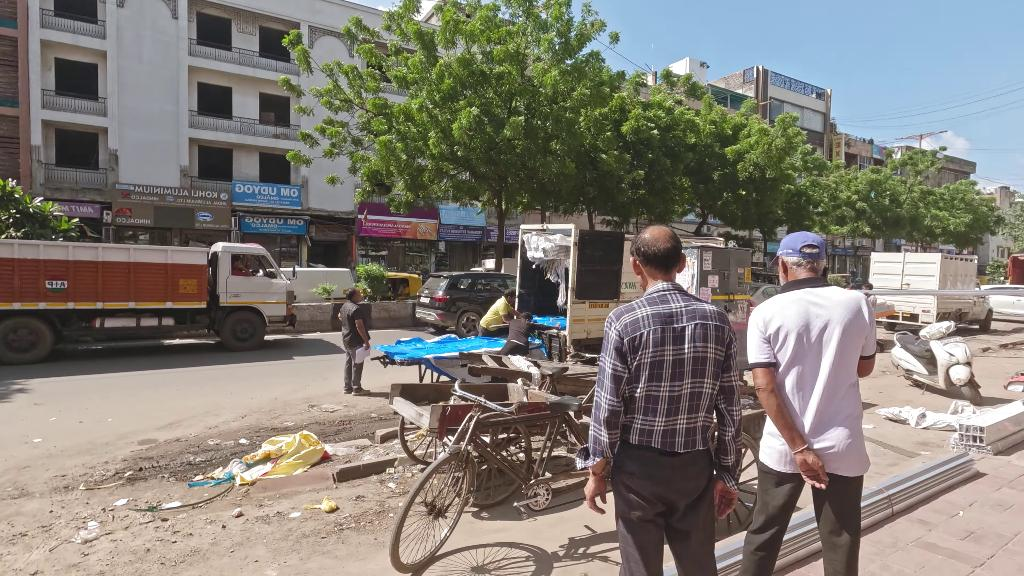garbage: (187, 430, 328, 491), (71, 521, 101, 544)
